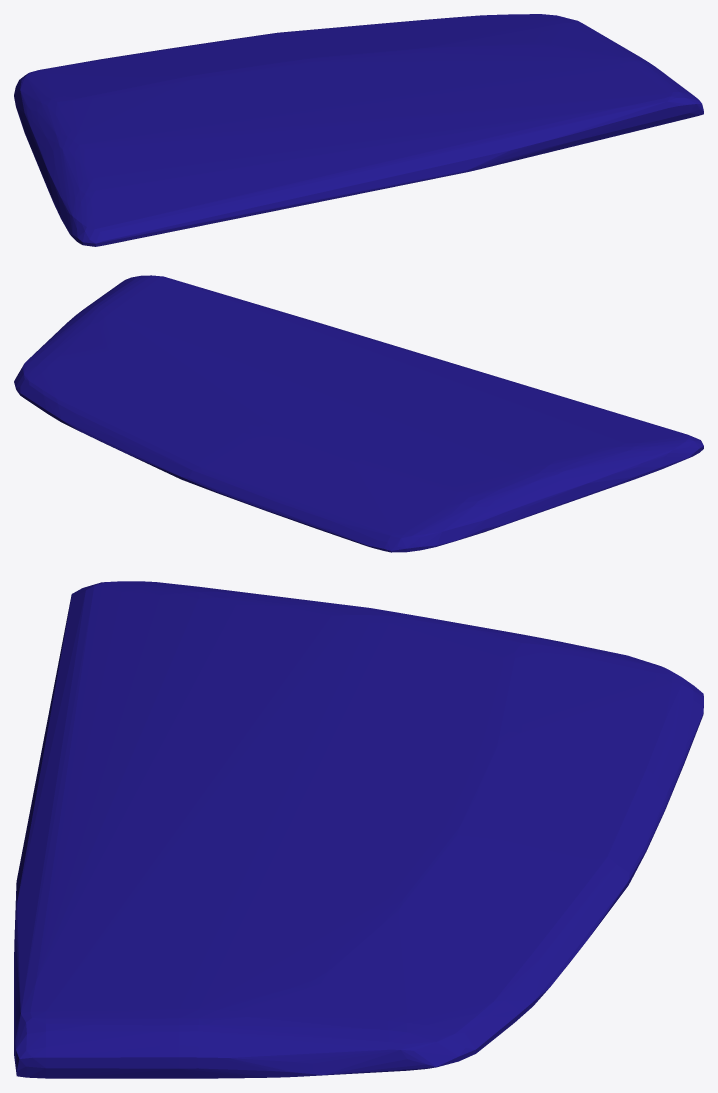
Rendered from right_hip_pitch_link_part_20.obj.
3 views of the same model, one above another, from view 1: azimuth 30°, elevation 25°; view 2: azimuth 150°, elevation 25°; view 3: azimuth 270°, elevation 25° (orthographic). The views are drawn at different scales.
Size of the model in its own units: 0.0713 by 0.00288 by 0.0428.
